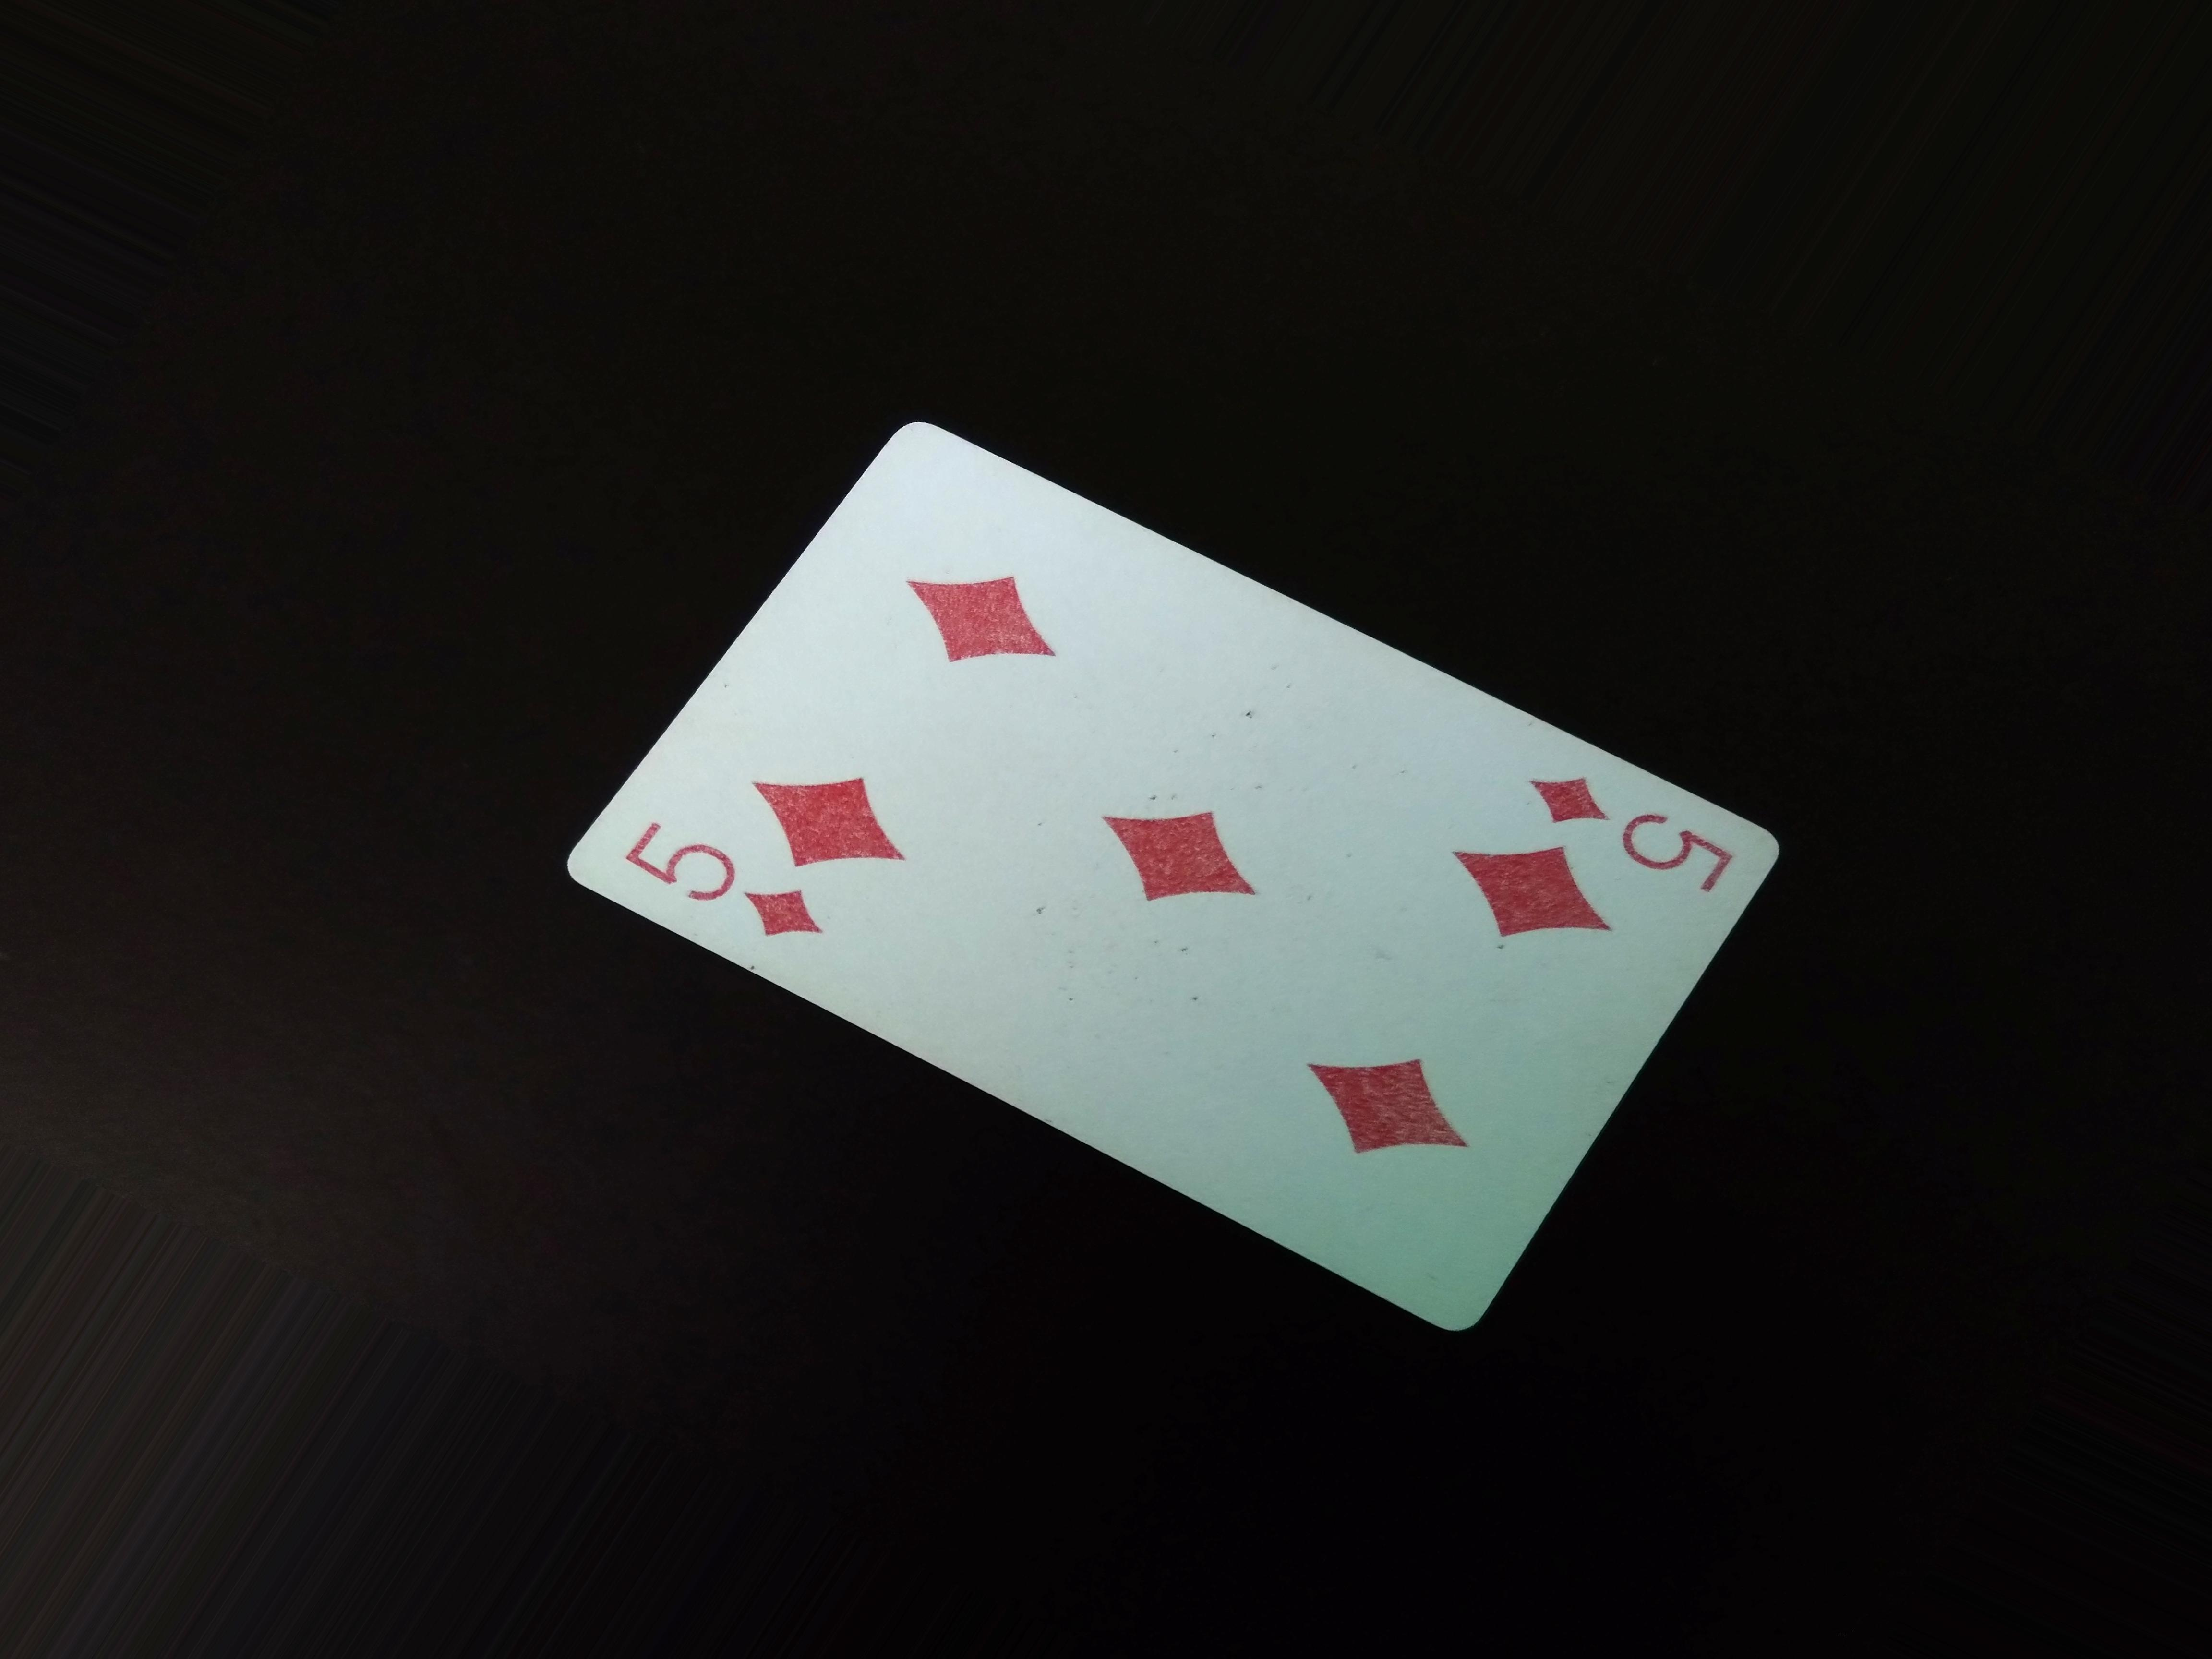5D: (1521, 755, 1757, 889)
